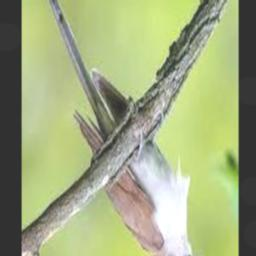Cuckoo: (42, 0, 202, 256)
